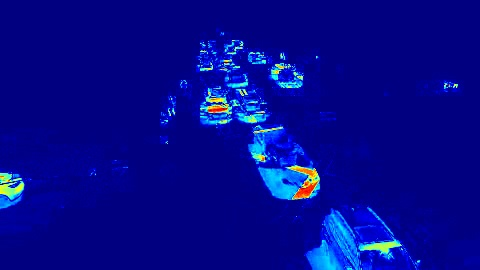vehicle: (256, 134, 315, 196), (331, 222, 403, 270), (201, 90, 226, 121), (235, 91, 260, 120), (275, 68, 303, 90), (228, 68, 246, 87), (250, 50, 263, 64)
